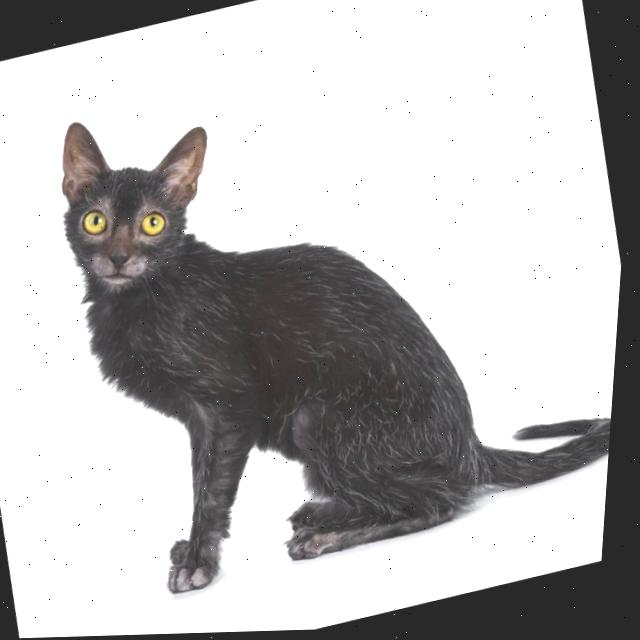Lykoi: (14, 0, 639, 619)
